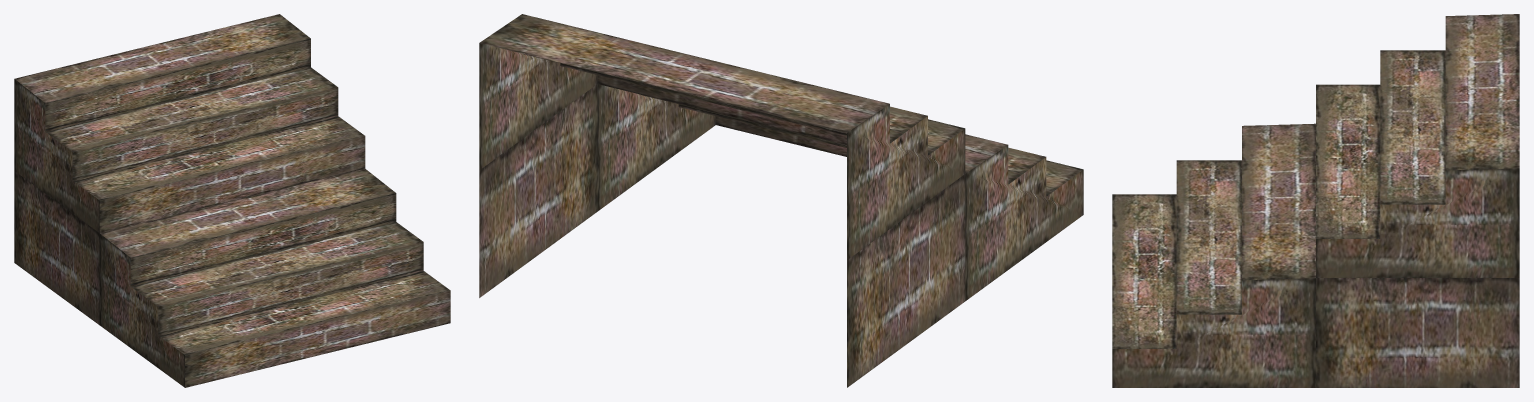
File: brick_stairs.fbx
3 views of the same model, side by side, from view 1: azimuth 30°, elevation 25°; view 2: azimuth 150°, elevation 25°; view 3: azimuth 270°, elevation 25° (orthographic). The views are drawn at different scales.
Visible parts, largest first — view 1: brick_stairs1; view 2: brick_stairs1; view 3: brick_stairs1.
Boxes of the visible parts, x1,y1,x2,y2 form: brick_stairs1: (14, 14, 450, 387); brick_stairs1: (479, 14, 1083, 387); brick_stairs1: (1112, 14, 1519, 387).
Bounding box in the file's own units: 1000 × 663 × 1114.
1 material, 1 textured.
